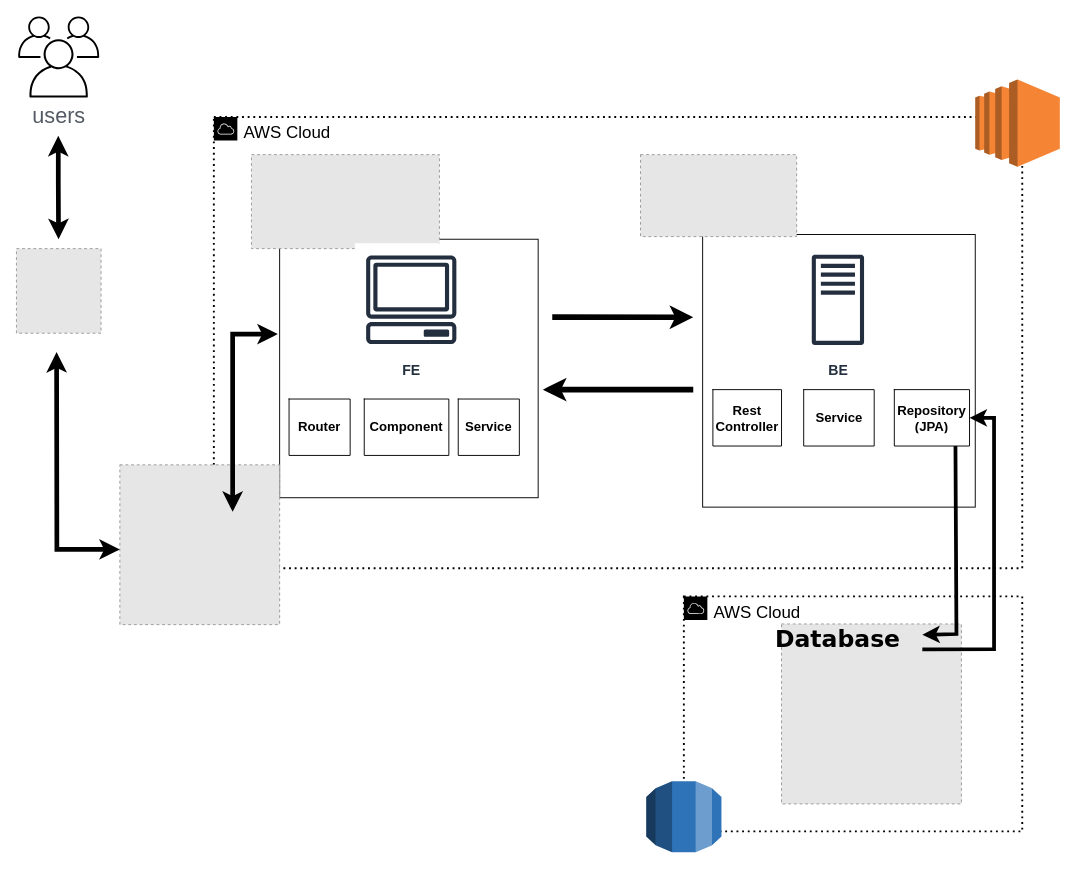
This 1076x873 diagram has some shape labels left out. Grey dashed boxes stand in for pictures. The centre of each missing label's shape, as x and y in pixels:
"AWS EC2" goes at point 1017,122.
"AWS RDS" goes at point 683,816.
